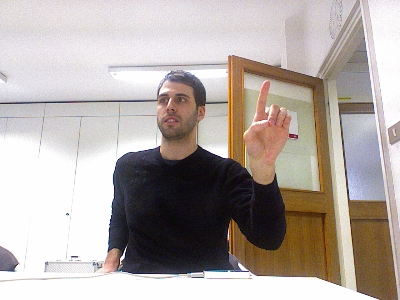食指: (242, 79, 291, 169)
